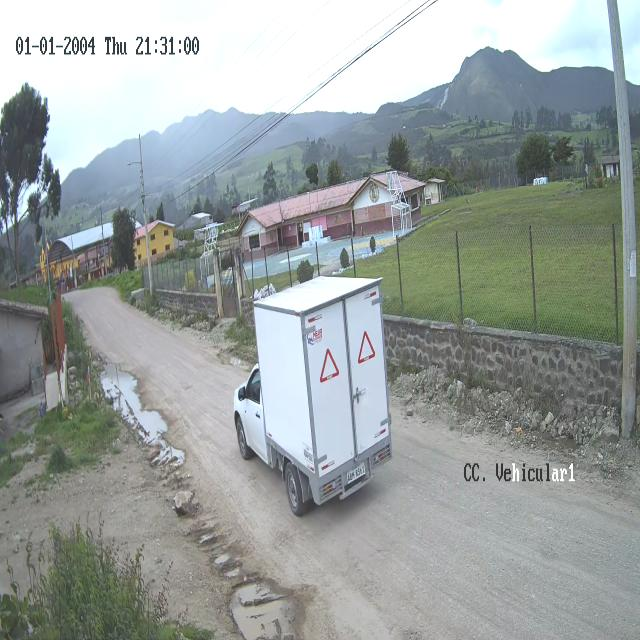TRUCK: (234, 276, 392, 516)
